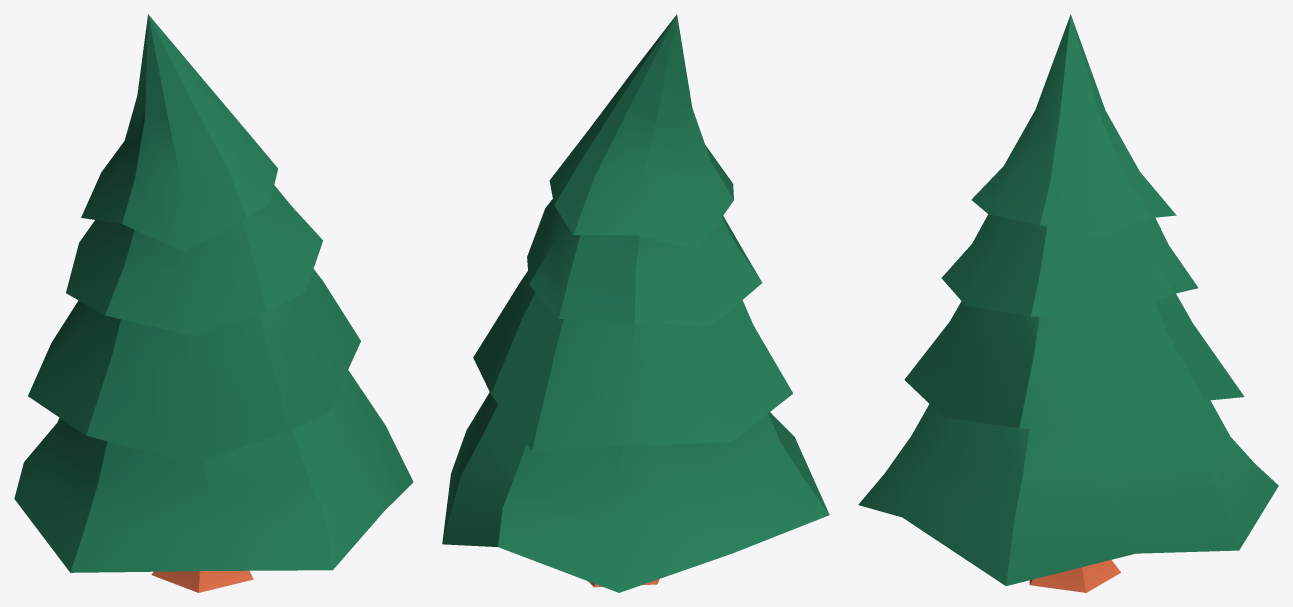
File: Christmas tree.fbx
The picture shows the model from 3 angles, left to right: view 1: azimuth 30°, elevation 25°; view 2: azimuth 150°, elevation 25°; view 3: azimuth 270°, elevation 25°; orthographic projection. The views are drawn at different scales.
Parts seen in each view (by area): view 1: tree; view 2: tree; view 3: tree.
Part boxes in pixels (left/top/right/bottom): tree: left=14, top=14, right=413, bottom=592; tree: left=442, top=14, right=829, bottom=592; tree: left=858, top=14, right=1278, bottom=592.
Bounding box in the file's own units: 416 × 654 × 468.
